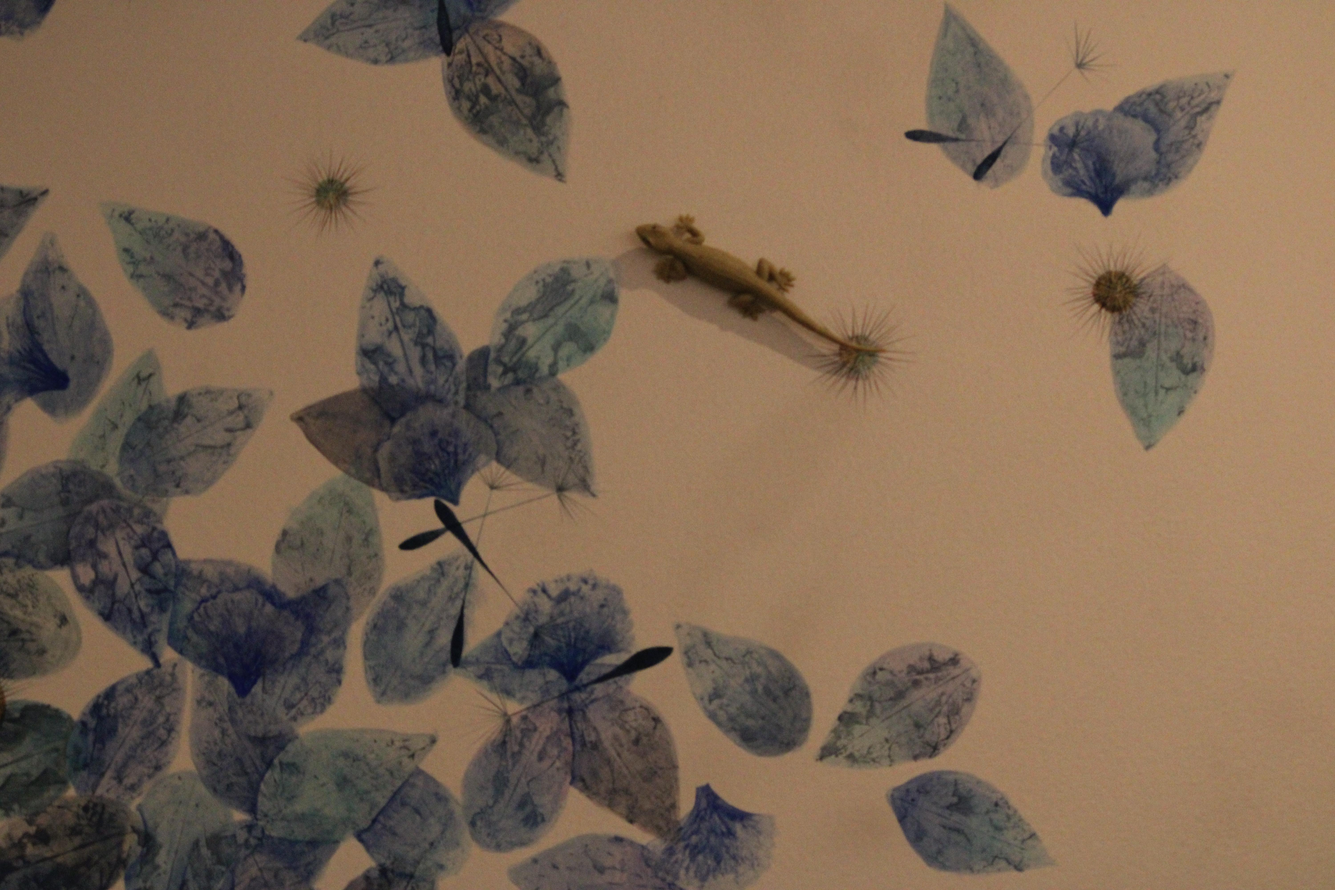lizard: (619, 187, 852, 362)
